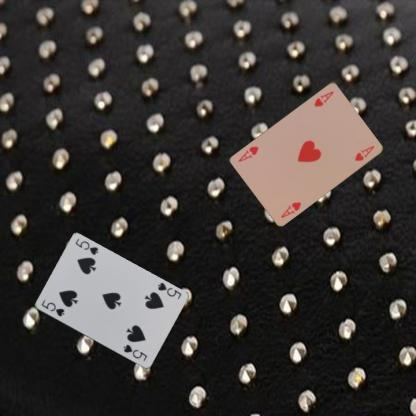5s: (155, 280, 182, 300), (39, 298, 65, 318)
Ah: (312, 88, 335, 108), (279, 199, 302, 219)
